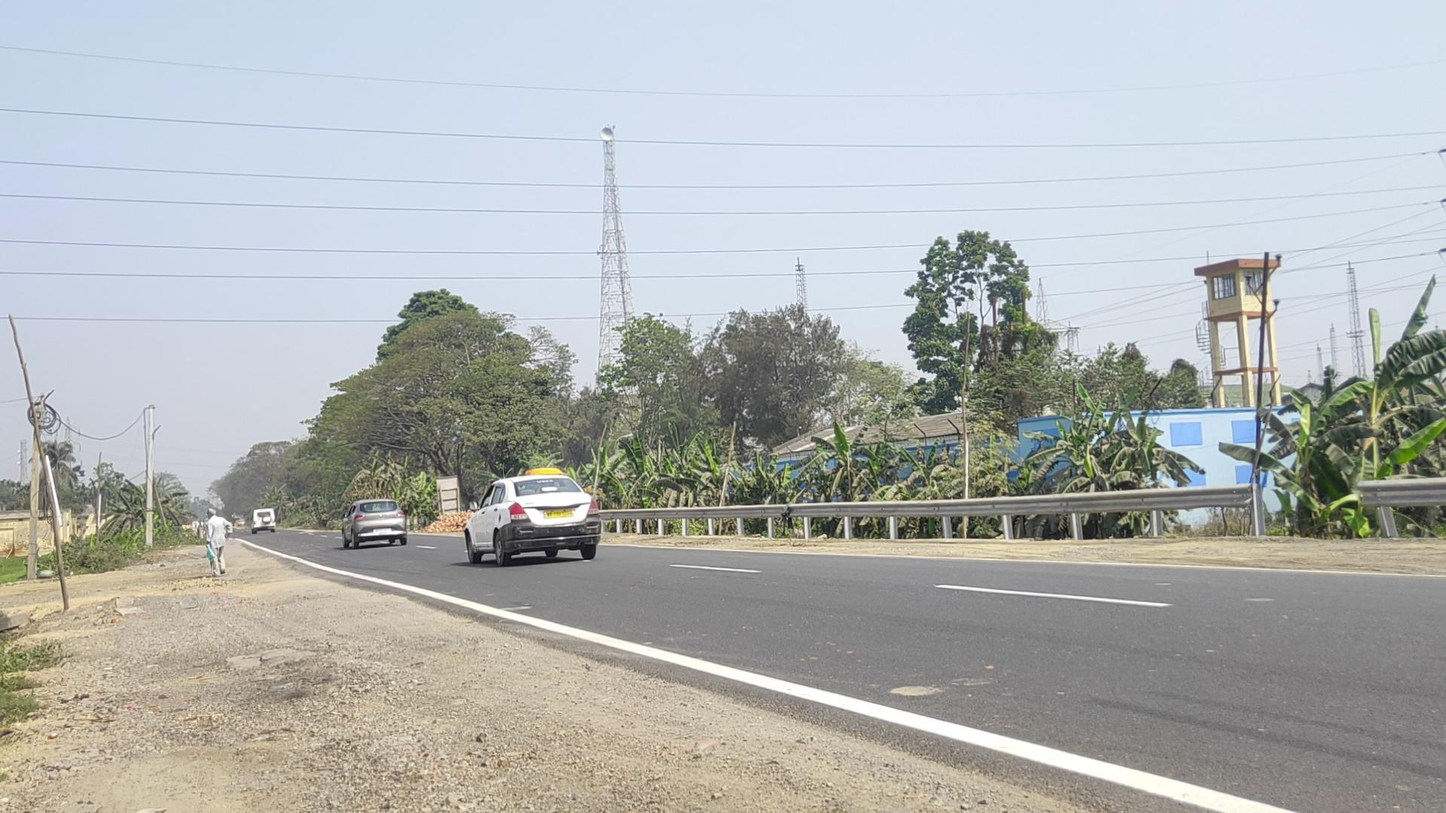car: (464, 474, 601, 565), (342, 498, 407, 548), (251, 508, 276, 534)
